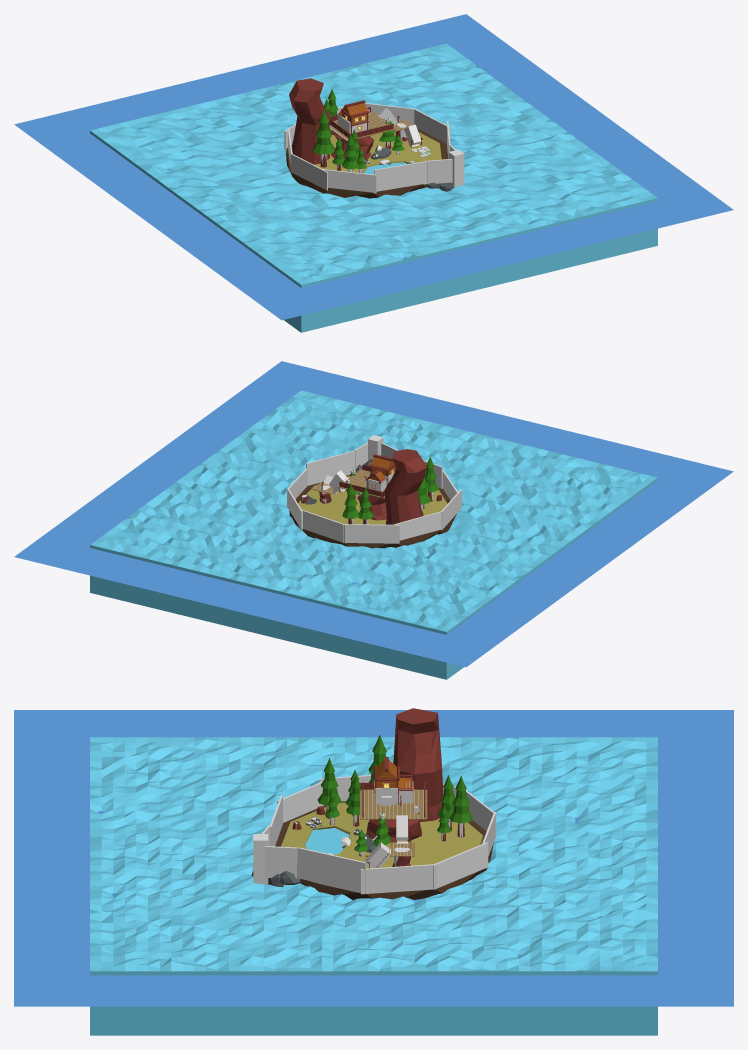
Rendered from world.glb.
3 views of the same model, one above another, from view 1: azimuth 30°, elevation 25°; view 2: azimuth 150°, elevation 25°; view 3: azimuth 270°, elevation 25° (orthographic). The views are drawn at different scales.
Visible parts, largest first — view 1: WATER_OCEAN, WATER_HORIZON, SHADOW_Cylinder.029, Land_01, COL_BOX_WORLD_BOUNDRY_01.007, Land_02, COL_BOX_WORLD_BOUNDRY_01.006, COL_BOX_WORLD_BOUNDRY_01.005, SHADOW_Tree_02, COL_BOX_WORLD_BOUNDRY_01, COL_BOX_WORLD_BOUNDRY_01.009; view 2: WATER_OCEAN, WATER_HORIZON, SHADOW_Cylinder.029, Land_01, COL_BOX_WORLD_BOUNDRY_01.003, Land_02, COL_BOX_WORLD_BOUNDRY_01.008, COL_BOX_WORLD_BOUNDRY_01.002, COL_BOX_WORLD_BOUNDRY_01.004; view 3: WATER_OCEAN, WATER_HORIZON, Land_01, SHADOW_Cylinder.029, COL_BOX_WORLD_BOUNDRY_01.008, COL_BOX_WORLD_BOUNDRY_01, Land_02, COL_BOX_WORLD_BOUNDRY_01.001, SHADOW_Cube.004, COL_BOX_WORLD_BOUNDRY_01.006, COL_BOX_WORLD_BOUNDRY_01.010, Plane.002 (+4 smaller).
Part boxes in pixels (<box>): WATER_OCEAN: <box>90,43,657,332</box>; WATER_HORIZON: <box>14,14,733,320</box>; SHADOW_Cylinder.029: <box>289,78,330,164</box>; Land_01: <box>314,131,441,173</box>; COL_BOX_WORLD_BOUNDRY_01.007: <box>374,161,426,191</box>; Land_02: <box>286,128,448,198</box>; COL_BOX_WORLD_BOUNDRY_01.006: <box>321,169,376,193</box>; COL_BOX_WORLD_BOUNDRY_01.005: <box>290,154,327,190</box>; SHADOW_Tree_02: <box>313,109,334,167</box>; COL_BOX_WORLD_BOUNDRY_01: <box>414,108,450,143</box>; COL_BOX_WORLD_BOUNDRY_01.009: <box>426,158,452,184</box>; WATER_OCEAN: <box>90,390,657,679</box>; WATER_HORIZON: <box>14,361,733,667</box>; SHADOW_Cylinder.029: <box>384,449,426,524</box>; Land_01: <box>298,476,447,524</box>; COL_BOX_WORLD_BOUNDRY_01.003: <box>343,524,399,543</box>; Land_02: <box>289,475,456,548</box>; COL_BOX_WORLD_BOUNDRY_01.008: <box>306,450,354,485</box>; COL_BOX_WORLD_BOUNDRY_01.002: <box>302,509,346,543</box>; COL_BOX_WORLD_BOUNDRY_01.004: <box>394,511,442,540</box>; WATER_OCEAN: <box>90,737,657,1035</box>; WATER_HORIZON: <box>14,710,733,1006</box>; Land_01: <box>281,802,482,868</box>; SHADOW_Cylinder.029: <box>393,708,443,821</box>; COL_BOX_WORLD_BOUNDRY_01.008: <box>297,847,366,893</box>; COL_BOX_WORLD_BOUNDRY_01: <box>360,864,436,894</box>; Land_02: <box>275,801,493,899</box>; COL_BOX_WORLD_BOUNDRY_01.001: <box>433,842,488,889</box>; SHADOW_Cube.004: <box>360,789,427,819</box>; COL_BOX_WORLD_BOUNDRY_01.006: <box>277,781,324,822</box>; COL_BOX_WORLD_BOUNDRY_01.010: <box>264,846,297,878</box>; Plane.002: <box>305,828,349,854</box>.
Size of the model in its own units: 673 by 181 by 690.
Materials: 18 (3 with a texture image).
